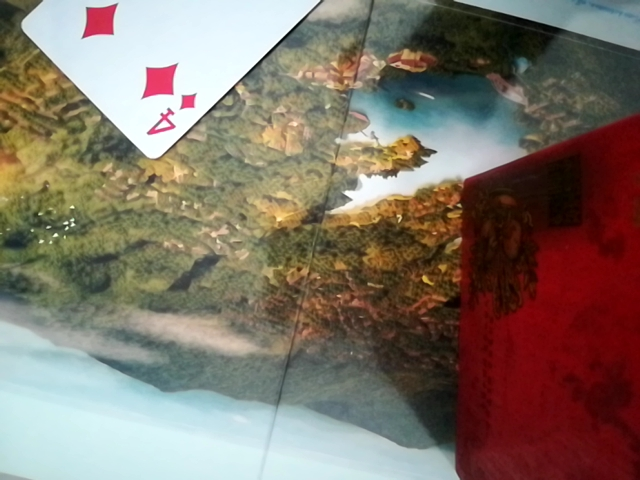fk 4: (10, 0, 373, 166)
